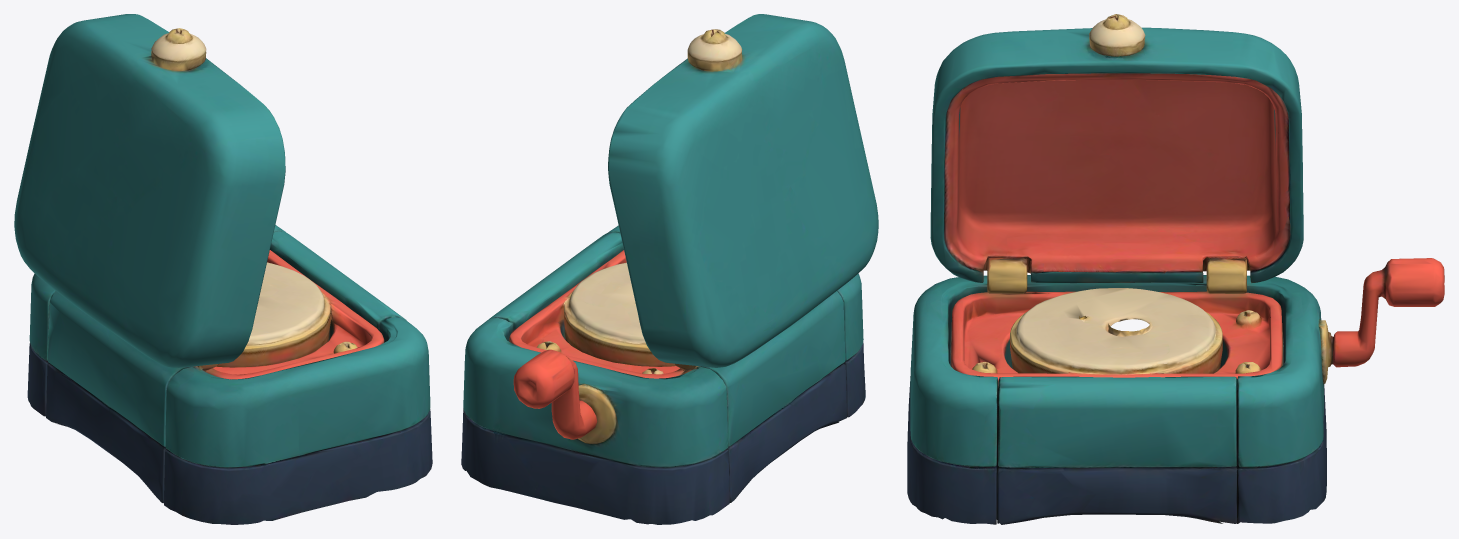
The model's file is musicbox.glb.
The picture shows the model from 3 angles, left to right: view 1: azimuth 30°, elevation 25°; view 2: azimuth 150°, elevation 25°; view 3: azimuth 270°, elevation 25°; orthographic projection. The views are drawn at different scales.
Parts seen in each view (by area): view 1: tripo_node_acfa158b-23f9-40a8-9bba-aaddb7caeed6; view 2: tripo_node_acfa158b-23f9-40a8-9bba-aaddb7caeed6; view 3: tripo_node_acfa158b-23f9-40a8-9bba-aaddb7caeed6.
Part boxes in pixels (bbox=[...]): tripo_node_acfa158b-23f9-40a8-9bba-aaddb7caeed6: bbox=[14, 14, 432, 524]; tripo_node_acfa158b-23f9-40a8-9bba-aaddb7caeed6: bbox=[461, 14, 878, 524]; tripo_node_acfa158b-23f9-40a8-9bba-aaddb7caeed6: bbox=[907, 14, 1444, 524].
Size of the model in its own units: 0.5272 by 0.7761 by 0.8915.
1 material, 1 textured.
